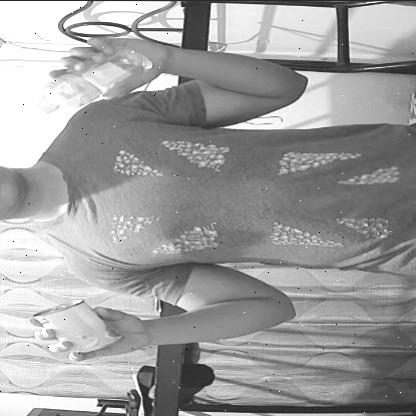Plastic Bottle: (23, 34, 162, 116)
